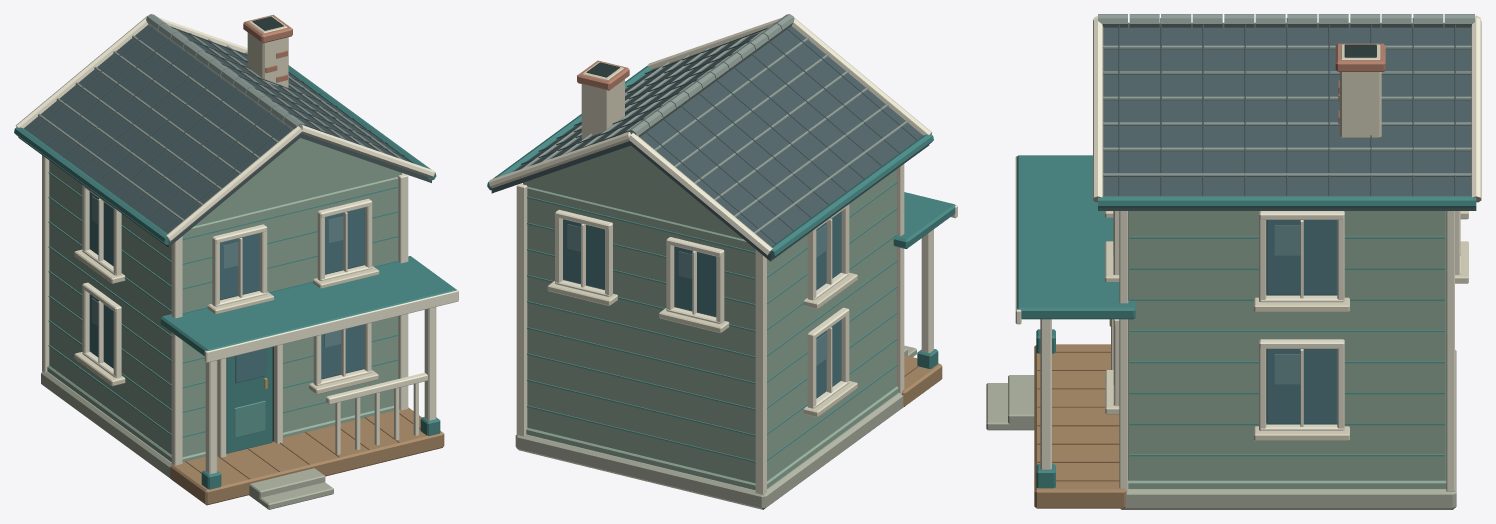
Rendered from house_sage_veranda.glb.
3 views of the same model, side by side, from view 1: azimuth 30°, elevation 25°; view 2: azimuth 150°, elevation 25°; view 3: azimuth 270°, elevation 25° (orthographic). The views are drawn at different scales.
Visible parts, largest first — view 1: house_sage_veranda; view 2: house_sage_veranda; view 3: house_sage_veranda.
Boxes of the visible parts, box(x1,y1,x2,y2) form: house_sage_veranda: box(14, 14, 458, 509); house_sage_veranda: box(487, 14, 957, 509); house_sage_veranda: box(986, 14, 1481, 509).
Bounding box in the file's own units: 4.04 × 4.87 × 5.05.
